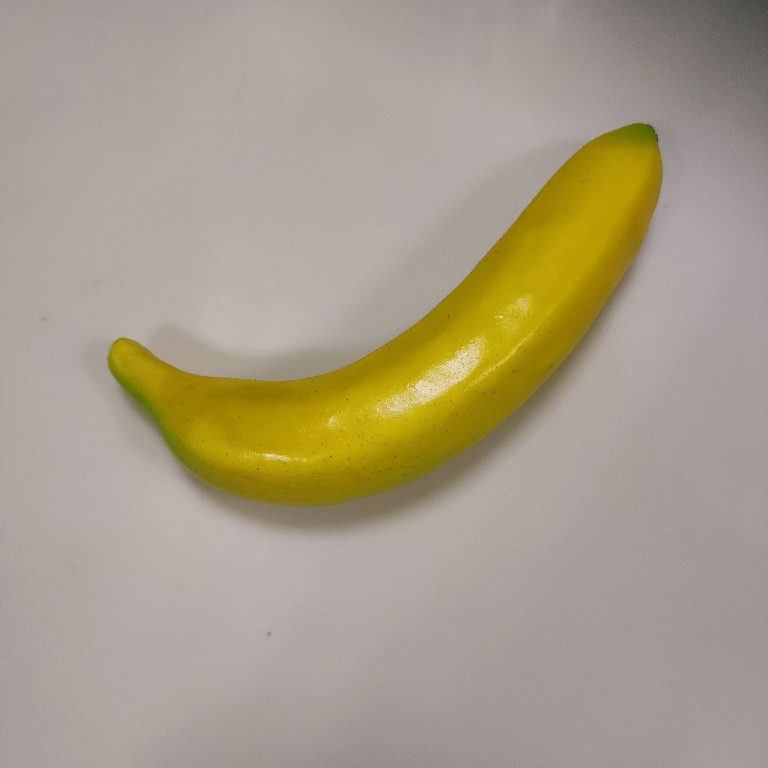fruit_banana: (93, 116, 673, 517)
